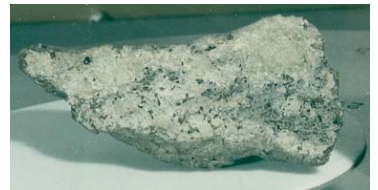Basalt: (27, 22, 346, 166)
